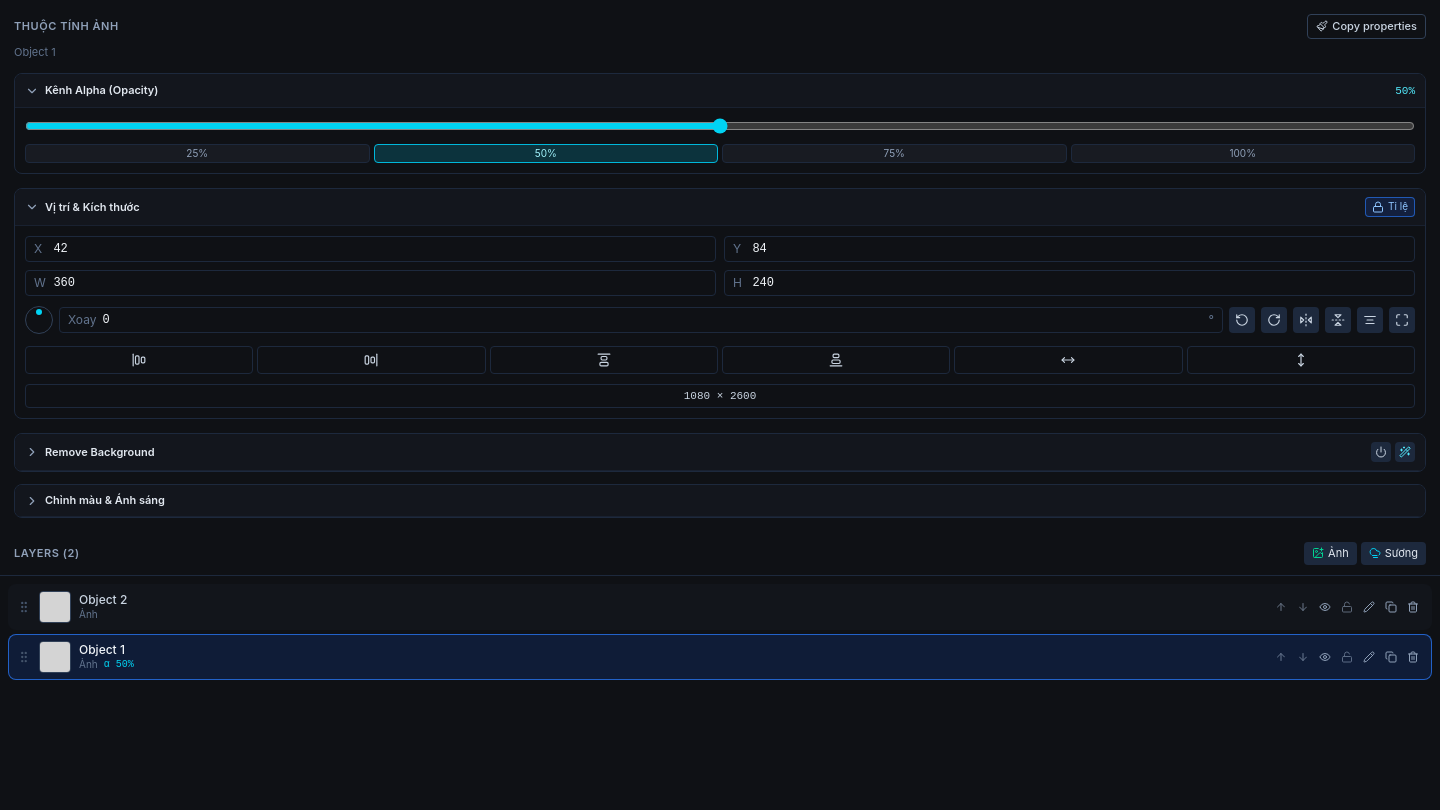
it: Editor UI Components › PropertiesPanel Copy properties button copies attributes to the next selected layer
Step 1. Click the button "Copy properties" → click(1367, 26), box [1307,14,1426,39]
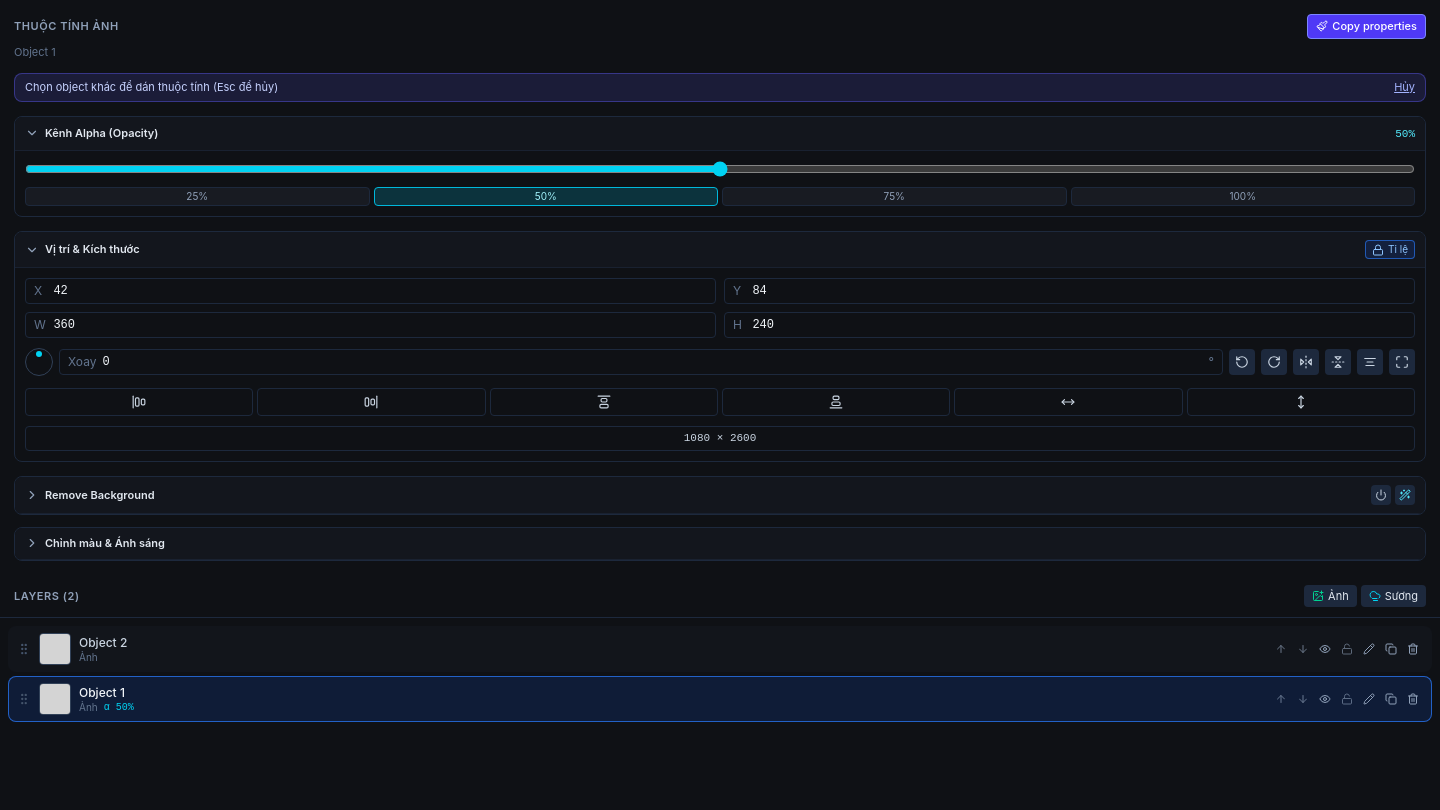
Check: the text "Chọn object khác để dán thuộc tính (Esc để hủy)" is shown, box [25,80,278,95]
Step 2. Click the text "Object 2" → click(103, 642), box [79,635,127,650]
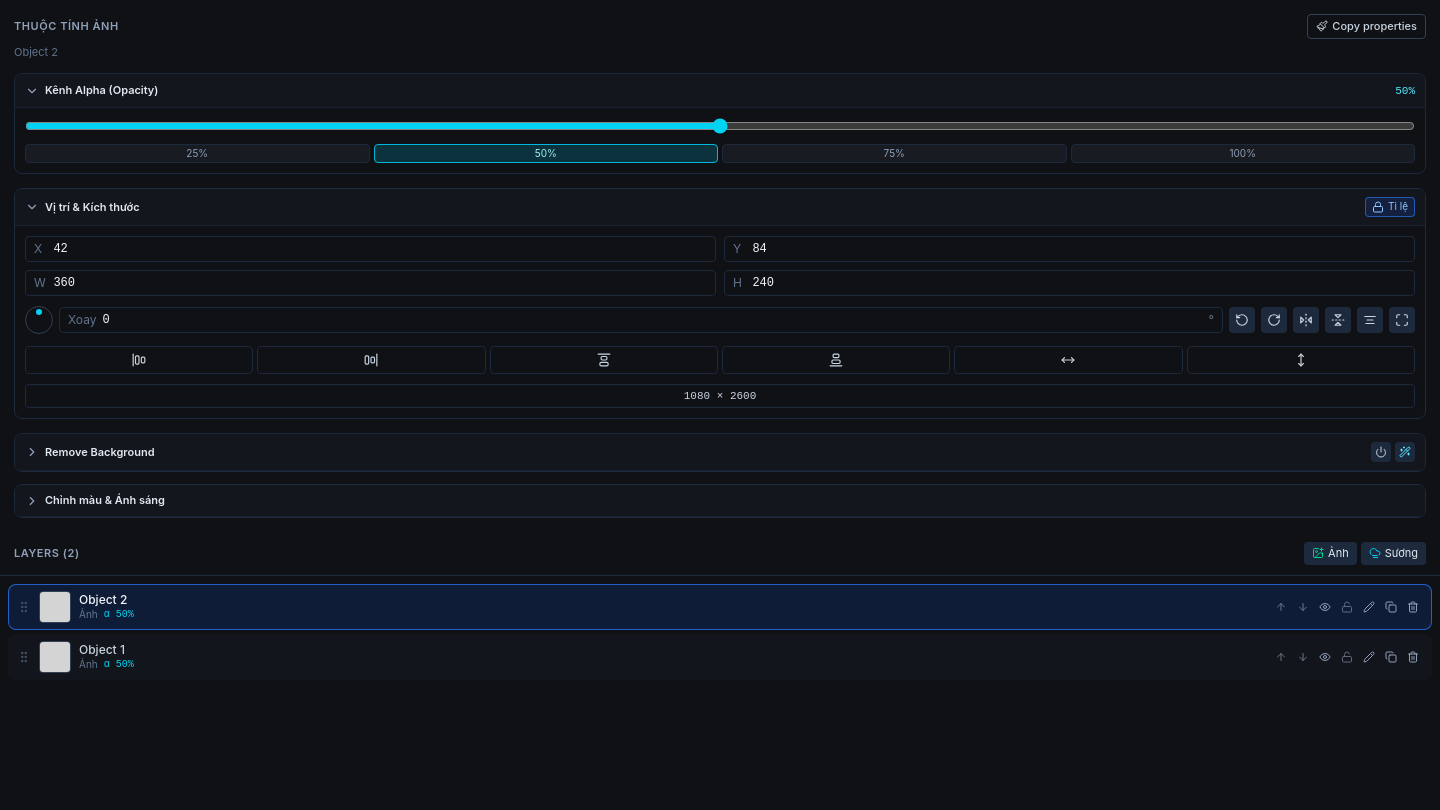
Check: the text "Chọn object khác để dán thuộc tính (Esc để hủy)" is gone
